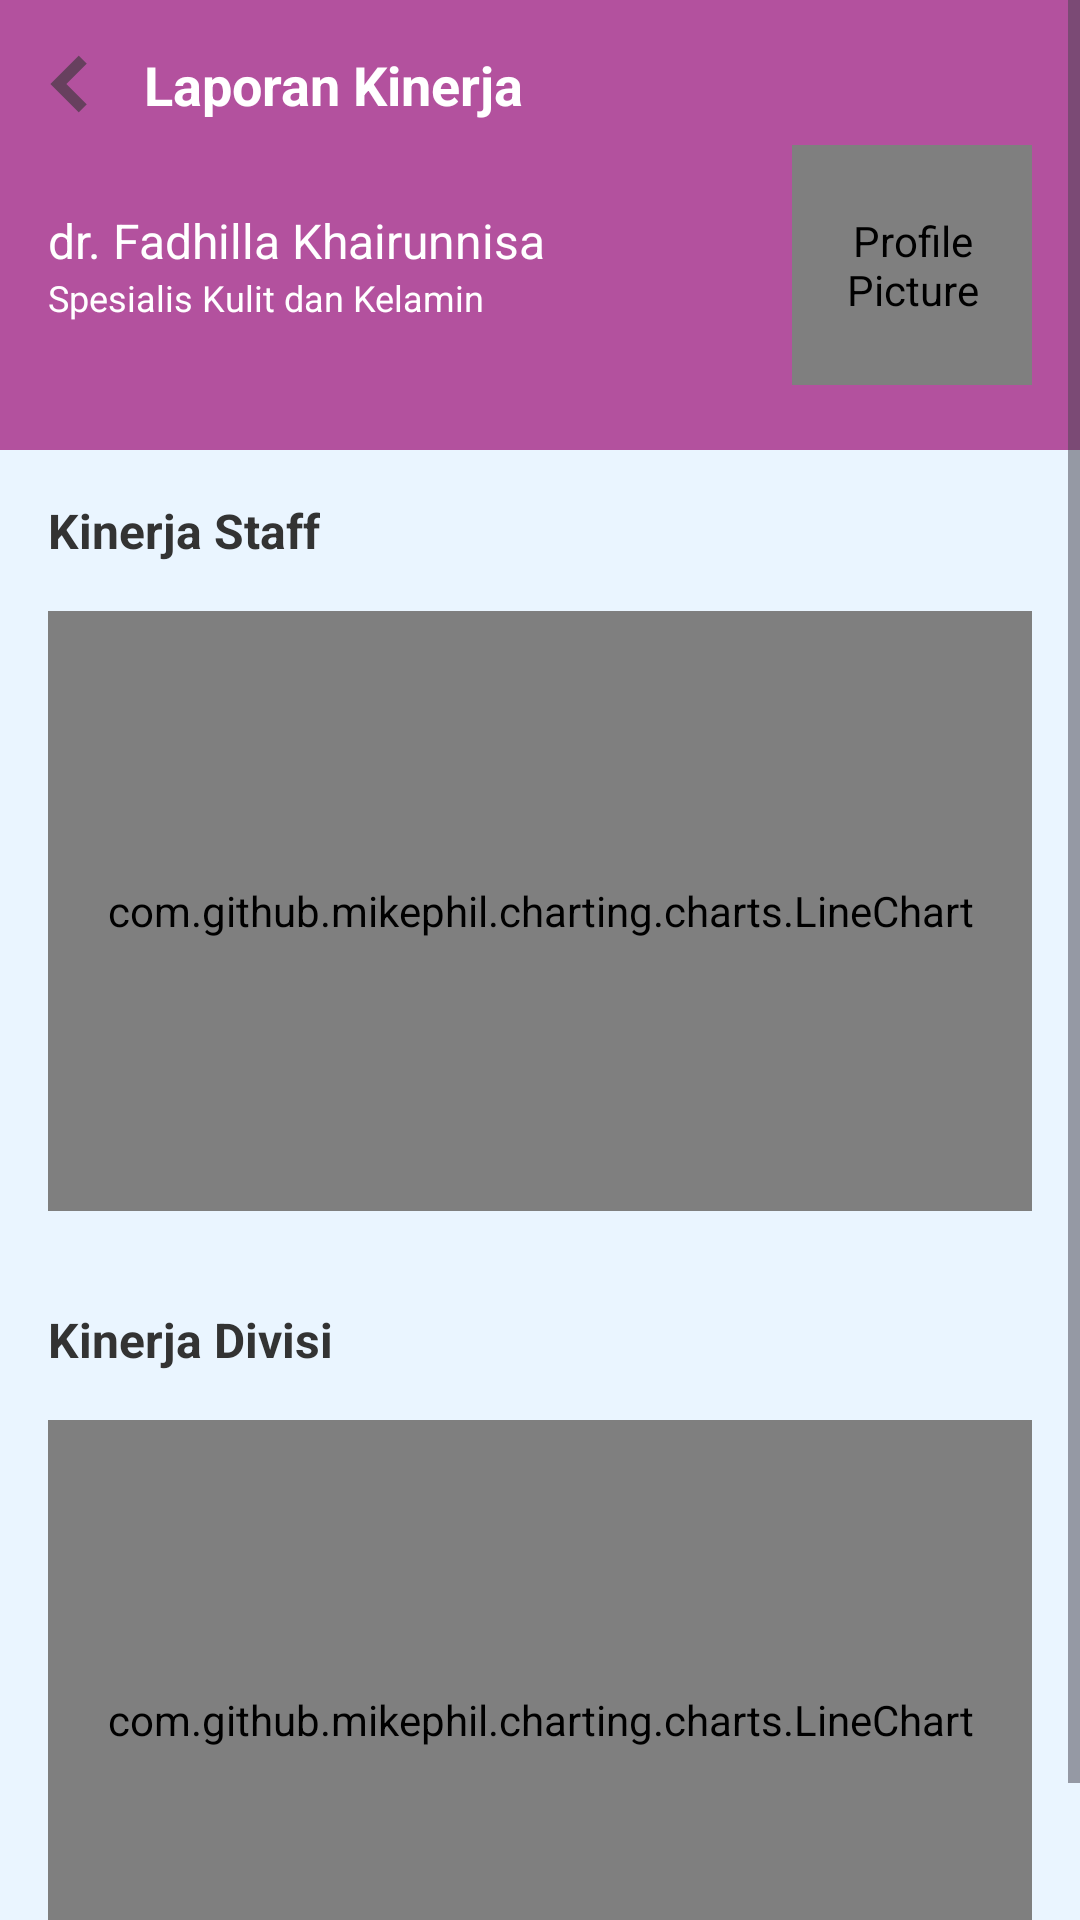

Screen size 1080*1920. Icon name, then its center in pixels as point (x, y):
Back Icon: point (69, 84)
